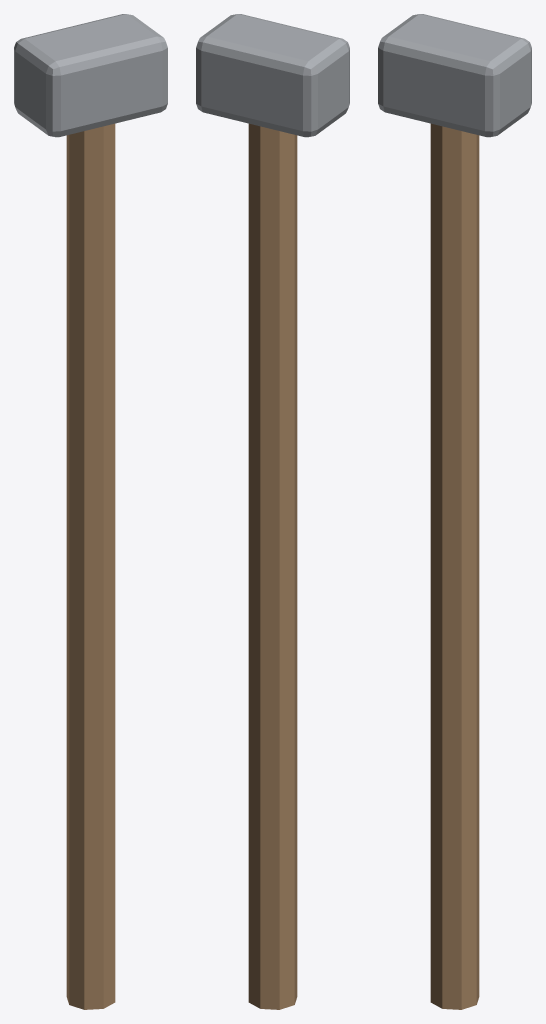
File: sledgehammer.glb
3 renders of one model, left to right at view 1: azimuth 30°, elevation 25°; view 2: azimuth 150°, elevation 25°; view 3: azimuth 330°, elevation 25°, orthographic.
Visible parts, largest first — view 1: sledgehammer; view 2: sledgehammer; view 3: sledgehammer.
Part boxes in pixels (bbox=[...]): sledgehammer: bbox=[14, 14, 167, 1009]; sledgehammer: bbox=[196, 14, 349, 1009]; sledgehammer: bbox=[378, 14, 531, 1009].
Size of the model in its own units: 0.1 by 0.76 by 0.06.
